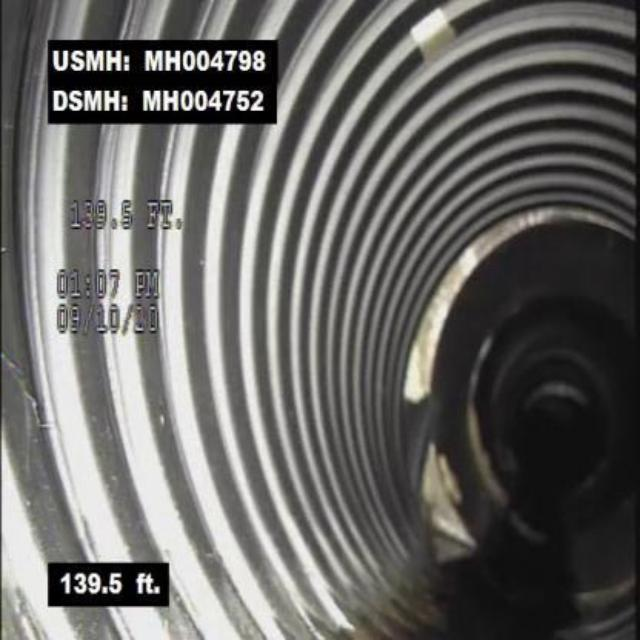Joint offset: (363, 260, 475, 411), (471, 205, 603, 263)
